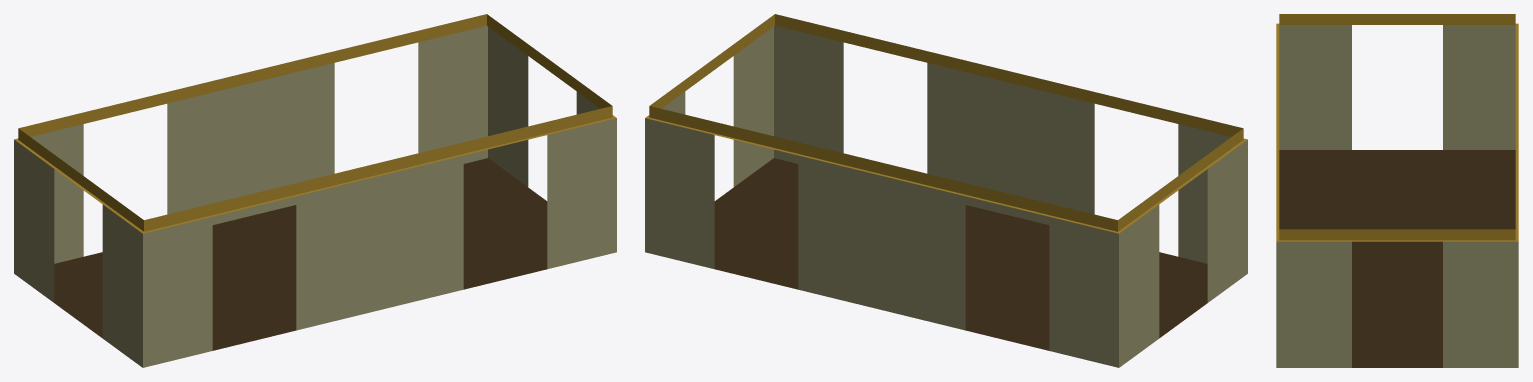
The model's file is 3x6Room.fbx.
The picture shows the model from 3 angles, left to right: view 1: azimuth 30°, elevation 25°; view 2: azimuth 150°, elevation 25°; view 3: azimuth 270°, elevation 25°; orthographic projection. The views are drawn at different scales.
Parts seen in each view (by area): view 1: 3x6Room; view 2: 3x6Room; view 3: 3x6Room.
Part boxes in pixels (bbox=[...]): 3x6Room: bbox=[14, 14, 616, 367]; 3x6Room: bbox=[645, 14, 1247, 367]; 3x6Room: bbox=[1276, 14, 1518, 367].
Bounding box in the file's own units: 1700 × 500 × 800.
